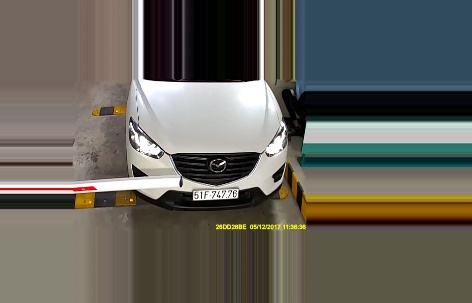plate: (195, 185, 242, 203)
